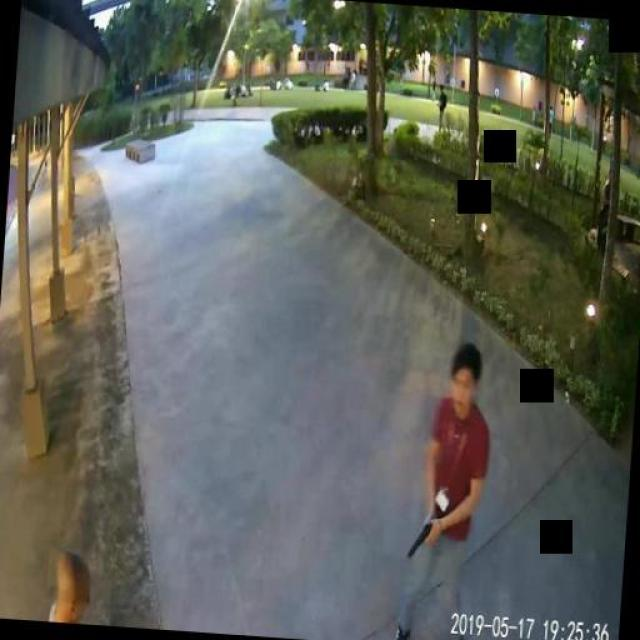gun: (406, 515, 436, 557)
